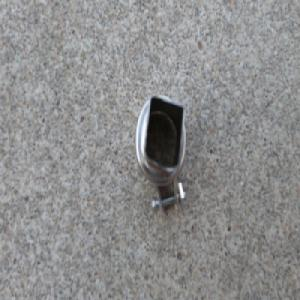MetalPart: (133, 92, 187, 223)
